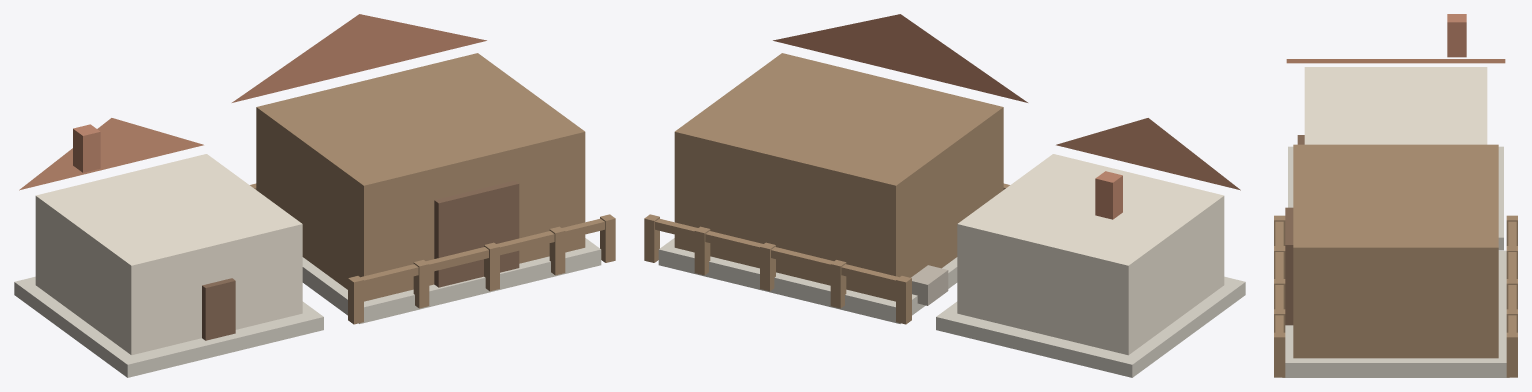
Rendered from farm.glb.
3 renders of one model, left to right at view 1: azimuth 30°, elevation 25°; view 2: azimuth 150°, elevation 25°; view 3: azimuth 270°, elevation 25°, orthographic. The views are drawn at different scales.
Parts seen in each view (by area): view 1: farm; view 2: farm; view 3: farm.
Part boxes in pixels (x1,y1,x2,y2): farm: (14,14,615,377); farm: (644,14,1245,377); farm: (1274,14,1517,377).
Bounding box in the file's own units: 1.91 × 0.72 × 0.88.
